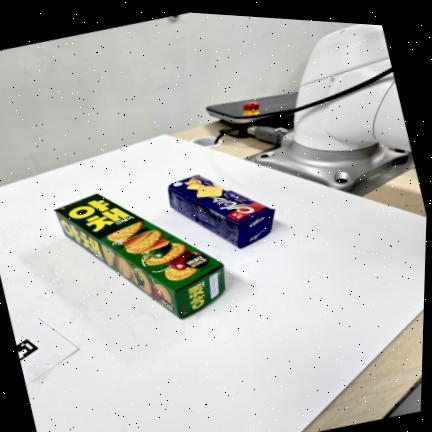cracker_ace: (168, 175, 274, 247)
cracker_vege: (55, 193, 225, 318)
